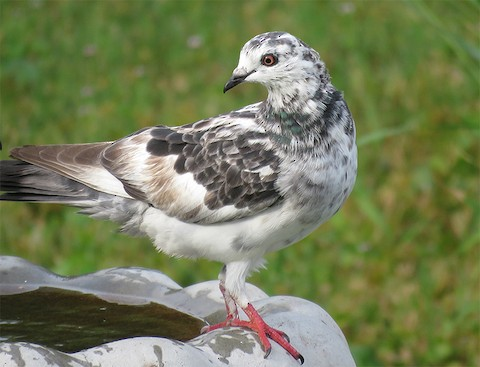pigeon: (3, 28, 361, 361)
